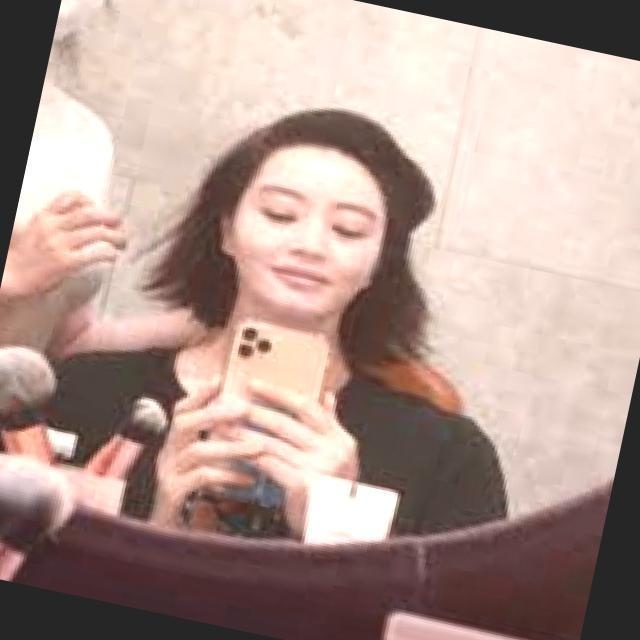lens: (238, 324, 276, 369)
phone: (217, 320, 332, 477)
